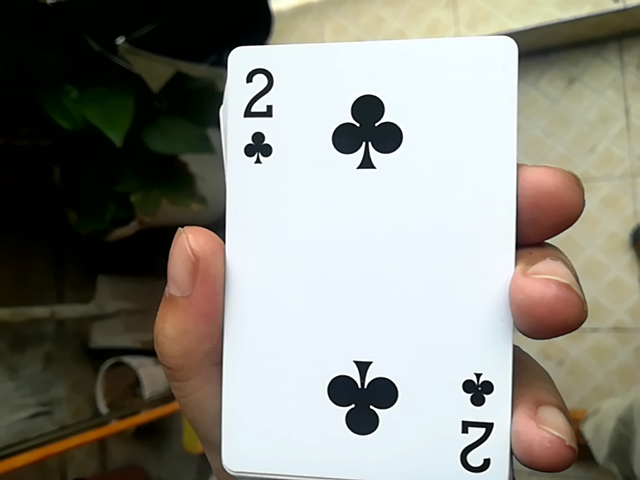mh 2: (208, 30, 517, 480)
